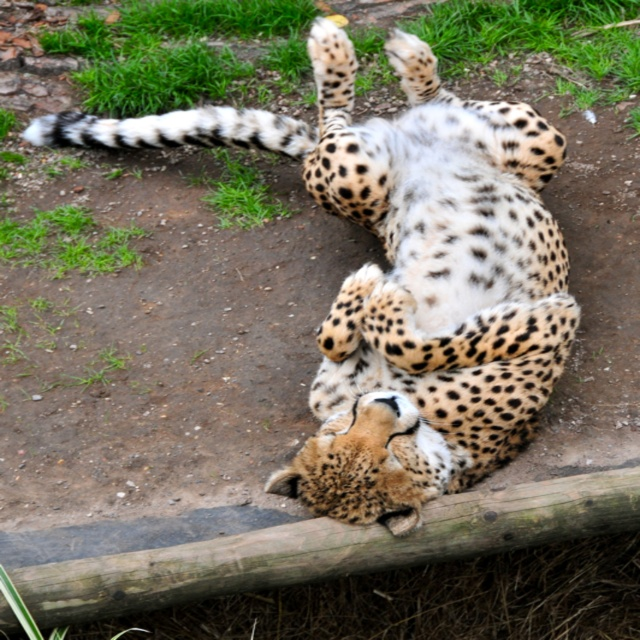Jaguar: (19, 15, 581, 540)
